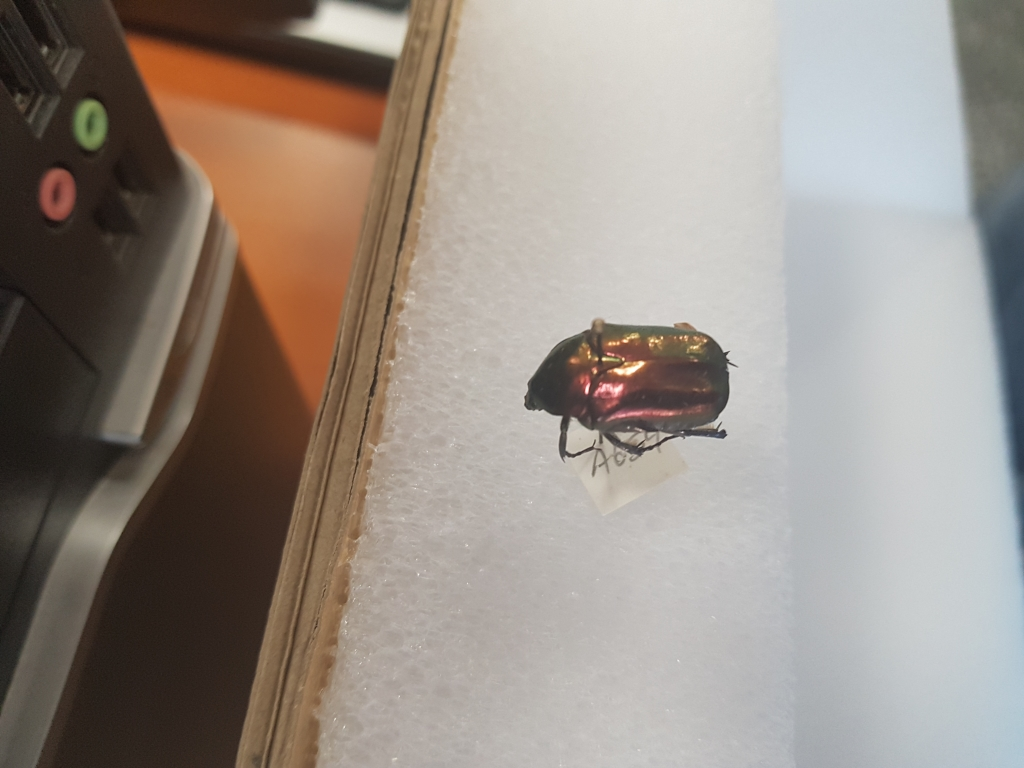Protaetia_cuprea_ignicollis: (519, 313, 743, 470)
